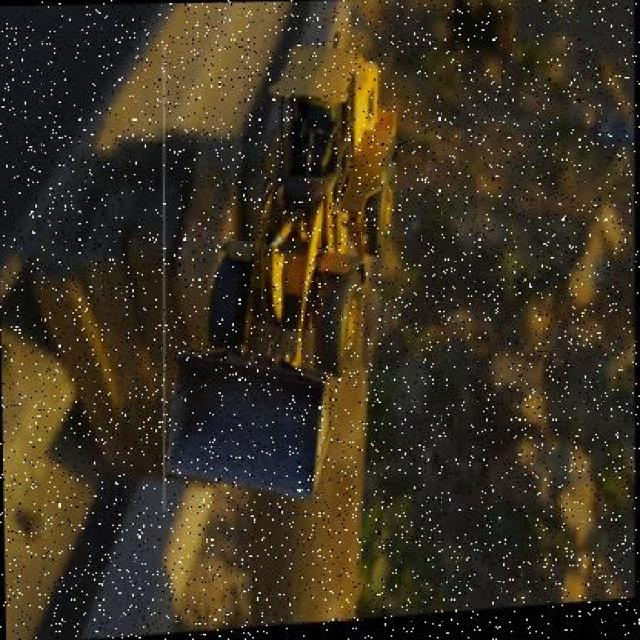buldozerpayloadergrader: (160, 48, 394, 509)
